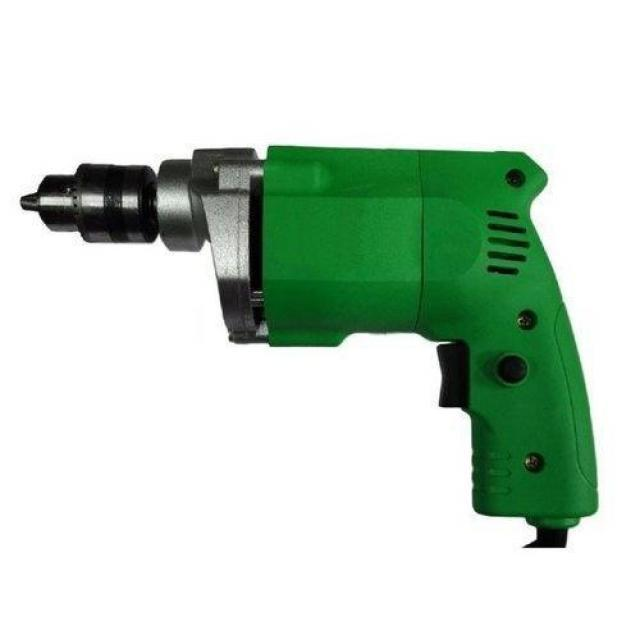drill: (19, 143, 602, 549)
